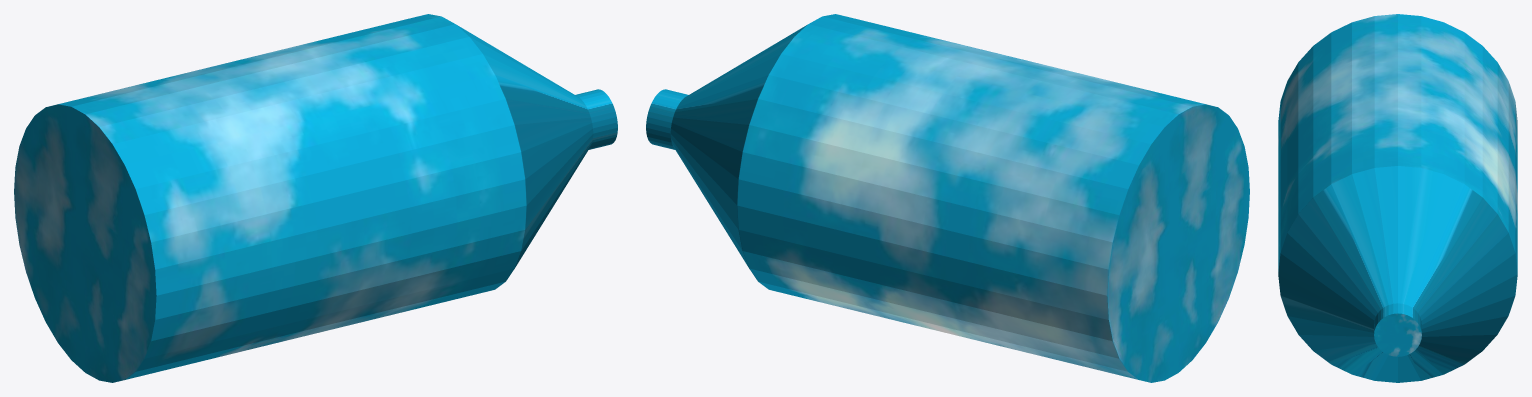
The model's file is soapBottle1.fbx.
3 renders of one model, left to right at view 1: azimuth 30°, elevation 25°; view 2: azimuth 150°, elevation 25°; view 3: azimuth 270°, elevation 25°, orthographic. The views are drawn at different scales.
Visible parts, largest first — view 1: SoapBottle1; view 2: SoapBottle1; view 3: SoapBottle1.
Boxes of the visible parts, x1,y1,x2,y2 form: SoapBottle1: [14, 14, 617, 382]; SoapBottle1: [646, 14, 1249, 382]; SoapBottle1: [1278, 14, 1517, 382].
Bounding box in the file's own units: 42 × 20 × 20.
1 material, 1 textured.
